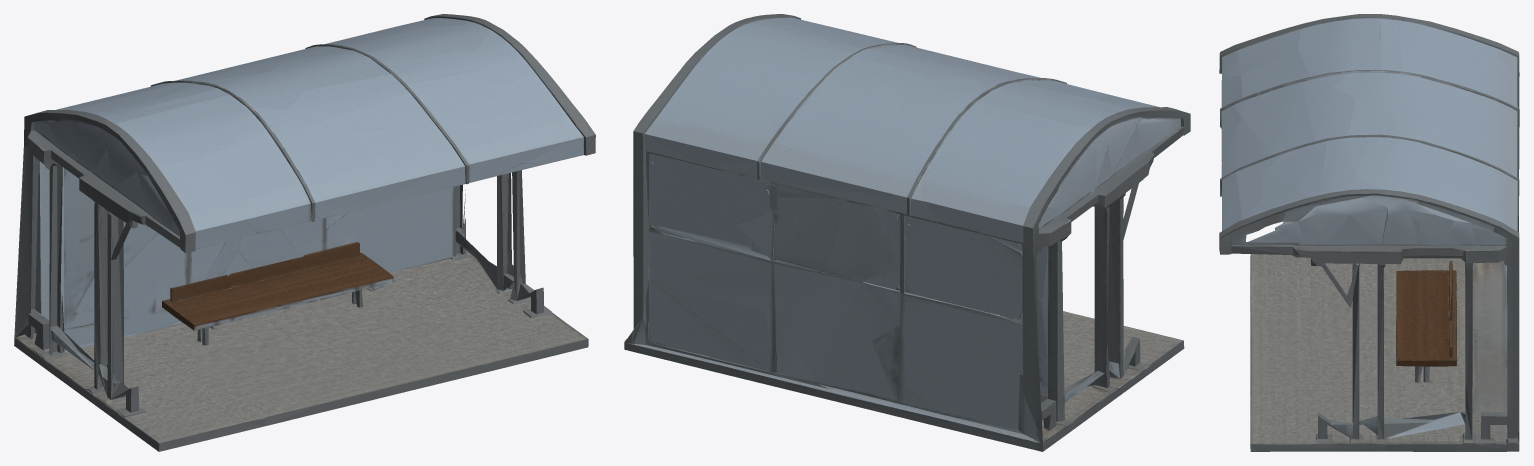
The model's file is Platform_shelter.glb.
3 views of the same model, side by side, from view 1: azimuth 30°, elevation 25°; view 2: azimuth 150°, elevation 25°; view 3: azimuth 270°, elevation 25° (orthographic). The views are drawn at different scales.
Size of the model in its own units: 1.9 by 1.15 by 1.24.
Materials: 1 (1 with a texture image).
